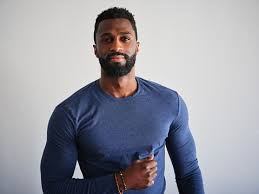person: (92, 6, 141, 81)
